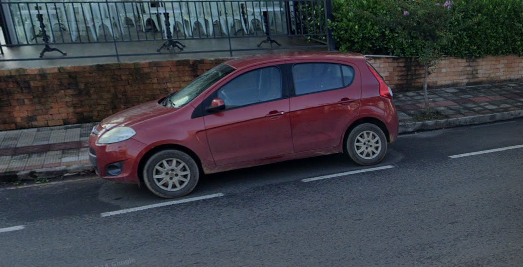car: (85, 50, 401, 208)
